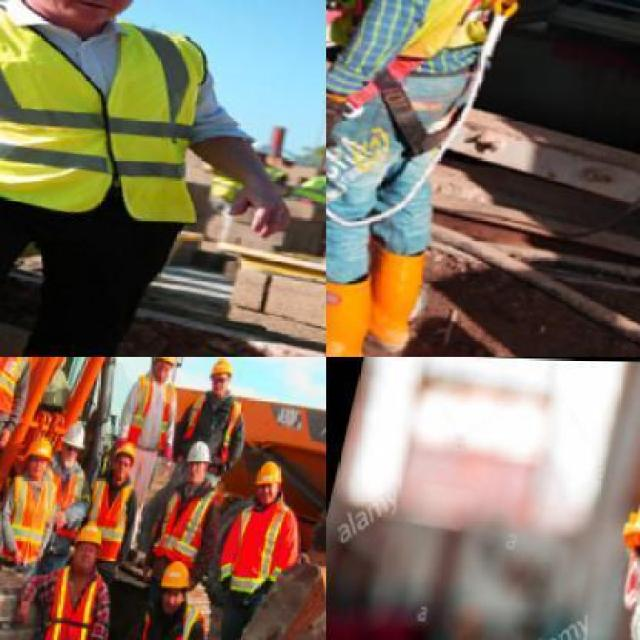vest: (0, 0, 258, 235), (326, 0, 563, 105), (224, 497, 302, 592), (80, 464, 146, 562), (0, 466, 65, 565), (46, 558, 117, 638), (160, 472, 223, 562), (126, 368, 186, 446), (185, 386, 248, 459), (136, 588, 216, 638), (49, 456, 97, 518), (0, 357, 40, 417)
